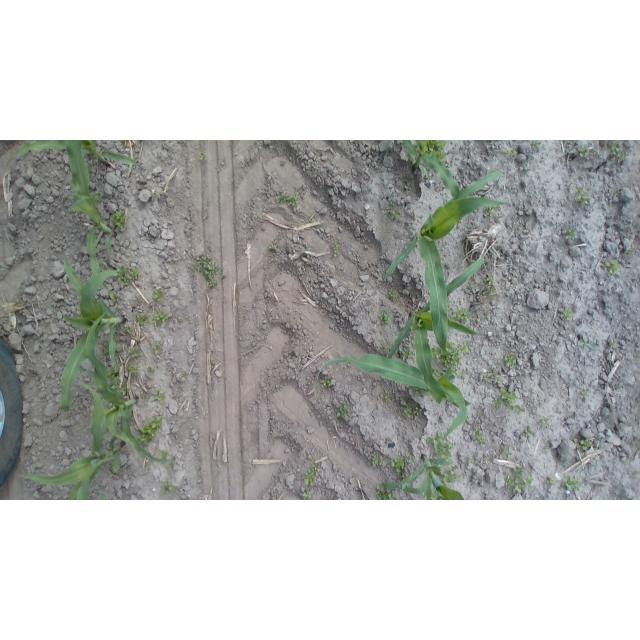Maize: (386, 175, 507, 357), (387, 256, 485, 400), (315, 352, 471, 439), (84, 312, 170, 464), (24, 383, 124, 500), (59, 254, 126, 412), (66, 140, 119, 292), (380, 452, 464, 500), (13, 140, 137, 168), (400, 141, 461, 196)
Weeds: (441, 339, 470, 377), (194, 253, 224, 288), (427, 429, 454, 460), (492, 388, 525, 413), (138, 417, 163, 448), (506, 467, 532, 494), (423, 140, 448, 162), (117, 266, 141, 288), (391, 456, 409, 480), (108, 368, 122, 395), (111, 210, 128, 232), (275, 190, 298, 206), (304, 464, 320, 486), (443, 467, 461, 485), (573, 185, 587, 208), (401, 405, 424, 419), (603, 260, 621, 277), (577, 333, 596, 349), (611, 140, 625, 161), (453, 307, 473, 321), (484, 372, 505, 385), (370, 453, 388, 468), (377, 486, 396, 500), (573, 436, 592, 450), (152, 311, 170, 325), (412, 385, 432, 397), (473, 428, 487, 445), (159, 479, 173, 495), (401, 347, 415, 362), (564, 477, 581, 489), (154, 388, 166, 405), (487, 276, 497, 295), (429, 344, 441, 359), (560, 308, 573, 321), (505, 355, 517, 369), (336, 404, 348, 418), (387, 287, 399, 301), (378, 311, 390, 325), (125, 363, 139, 375), (431, 368, 445, 379), (578, 146, 590, 158), (152, 289, 164, 301), (565, 228, 576, 241), (503, 147, 517, 157), (151, 341, 161, 355), (92, 191, 104, 202), (302, 488, 313, 500), (129, 347, 142, 357), (624, 245, 636, 255), (321, 377, 331, 388), (472, 281, 481, 293), (332, 244, 340, 257), (392, 209, 401, 220), (550, 476, 559, 487), (160, 449, 169, 460), (112, 292, 121, 303), (380, 344, 389, 354), (487, 207, 496, 217), (137, 315, 146, 325), (168, 458, 177, 467), (384, 391, 392, 401), (580, 390, 590, 398), (124, 326, 132, 336), (524, 427, 533, 435), (199, 152, 208, 160), (121, 387, 129, 396), (425, 168, 432, 178), (533, 140, 541, 148), (390, 199, 397, 207), (540, 416, 547, 424), (103, 346, 109, 355), (614, 190, 621, 197), (610, 343, 617, 350), (468, 454, 474, 462), (503, 447, 509, 455), (116, 347, 124, 353), (181, 372, 187, 380), (100, 263, 108, 269), (268, 244, 276, 250), (141, 393, 147, 400), (66, 252, 71, 260), (408, 456, 415, 461), (305, 253, 312, 258), (148, 368, 153, 375), (631, 474, 639, 478), (484, 460, 489, 465), (498, 217, 502, 221), (115, 338, 119, 342), (312, 221, 317, 224)
